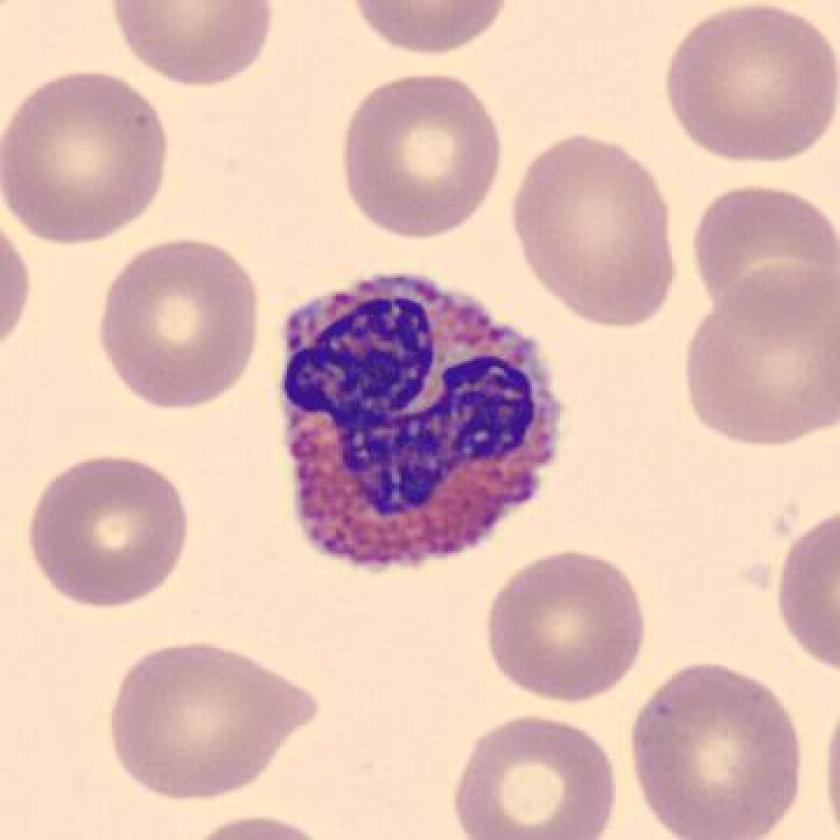eosinophil: (265, 253, 570, 589)
